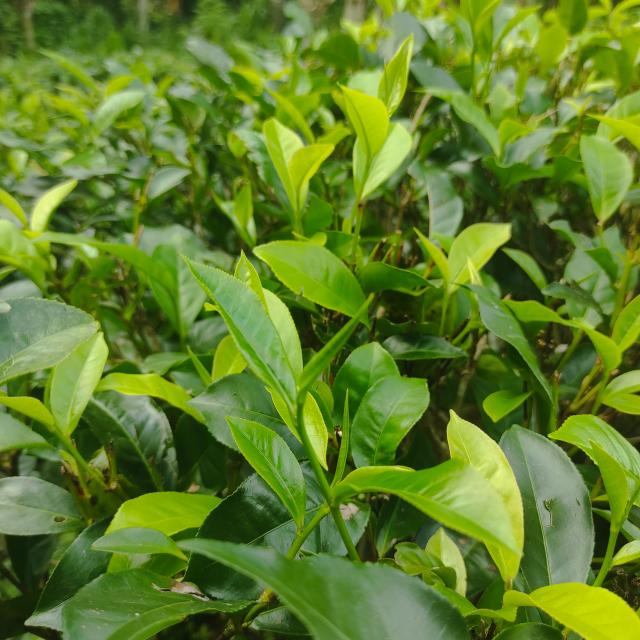unopened_leaf: (295, 288, 384, 402), (324, 386, 356, 513), (377, 56, 396, 110)
